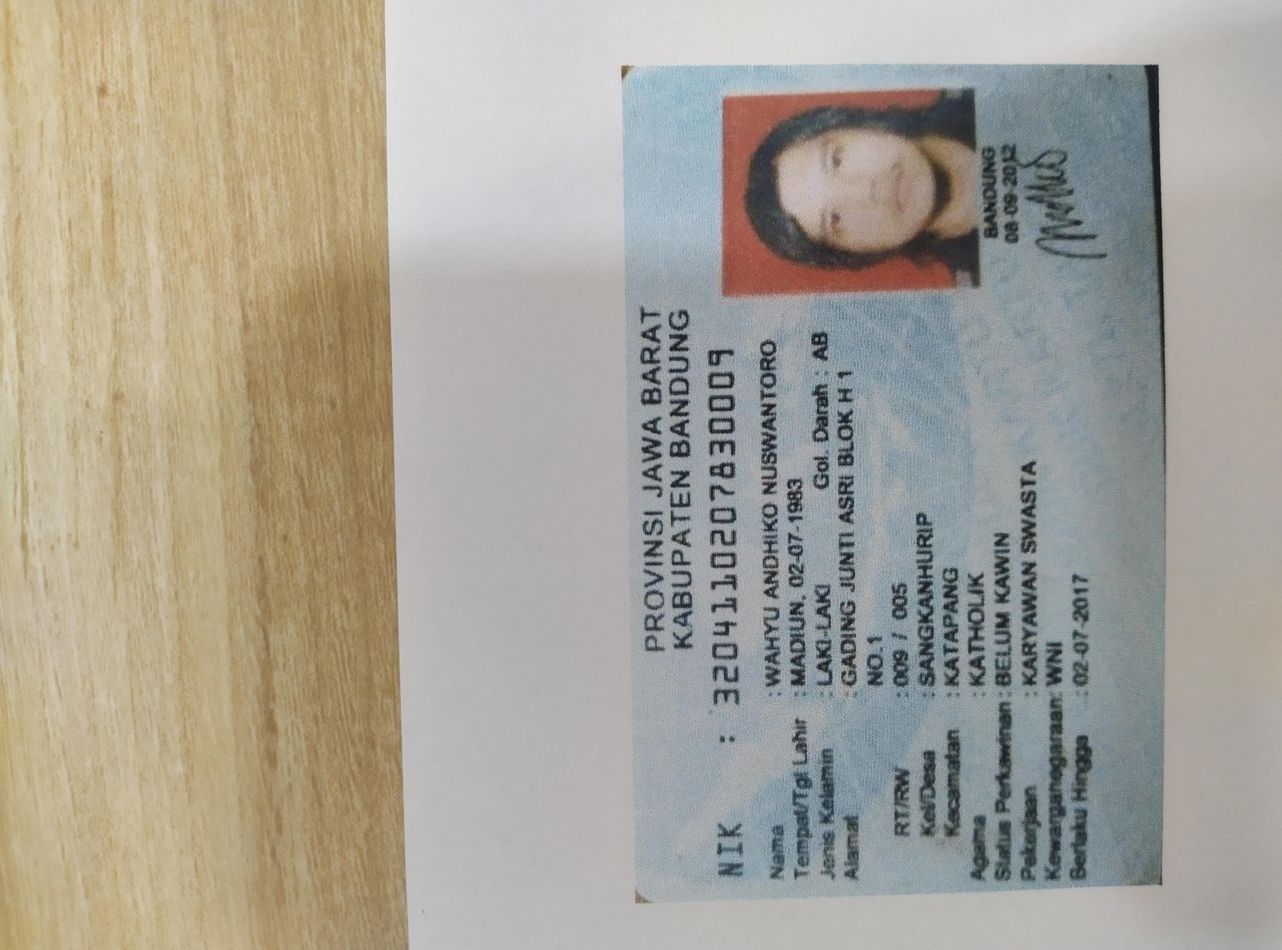ID-card: (64, 461, 1199, 859)
